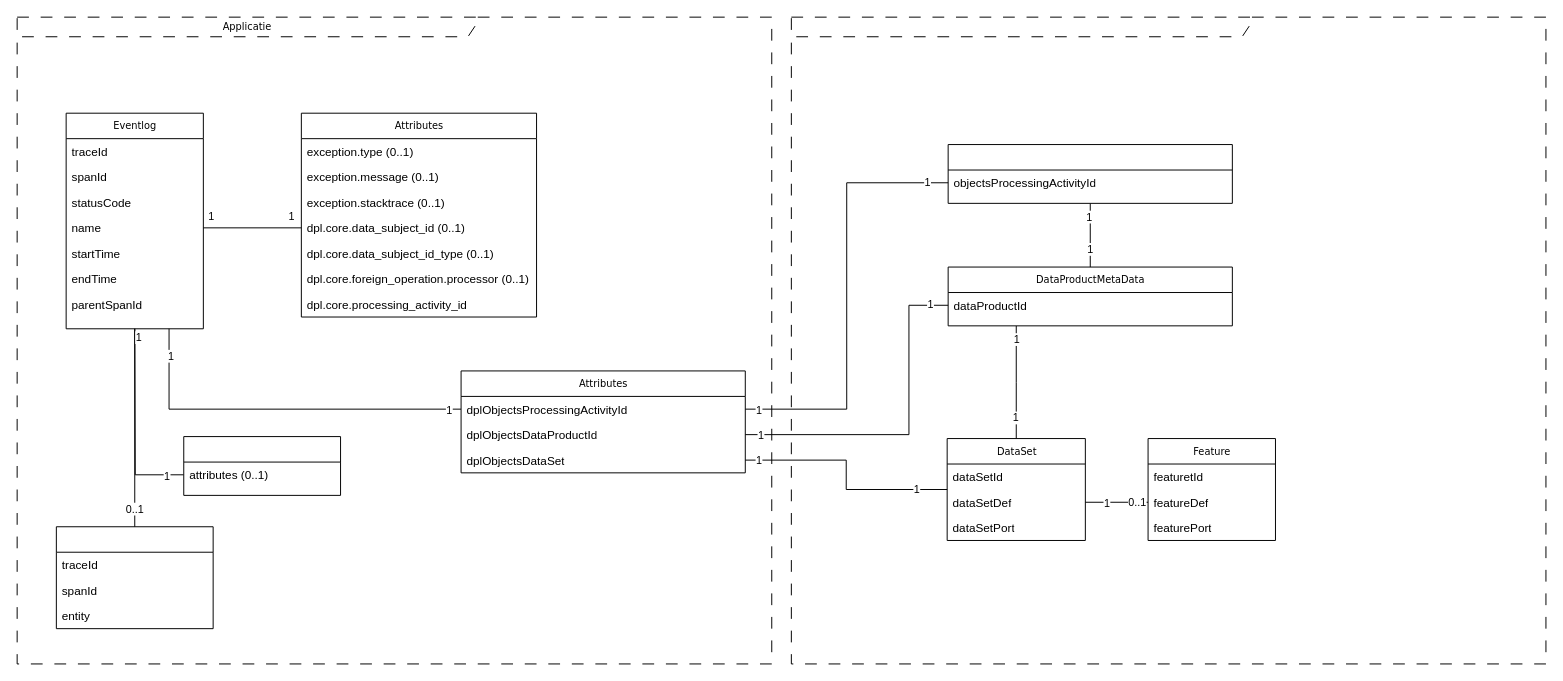
The diagram is 1563 pixels wide and 681 high, and some of its shapes have lost their labels. Here are the shapes that lost their labels. From the top down, the box of each, then its label:
(947, 144, 1232, 203): Algoritme
(790, 16, 1546, 664): Algoritmeregister
(183, 436, 341, 495): Resource
(55, 526, 213, 629): ForeignOperation
